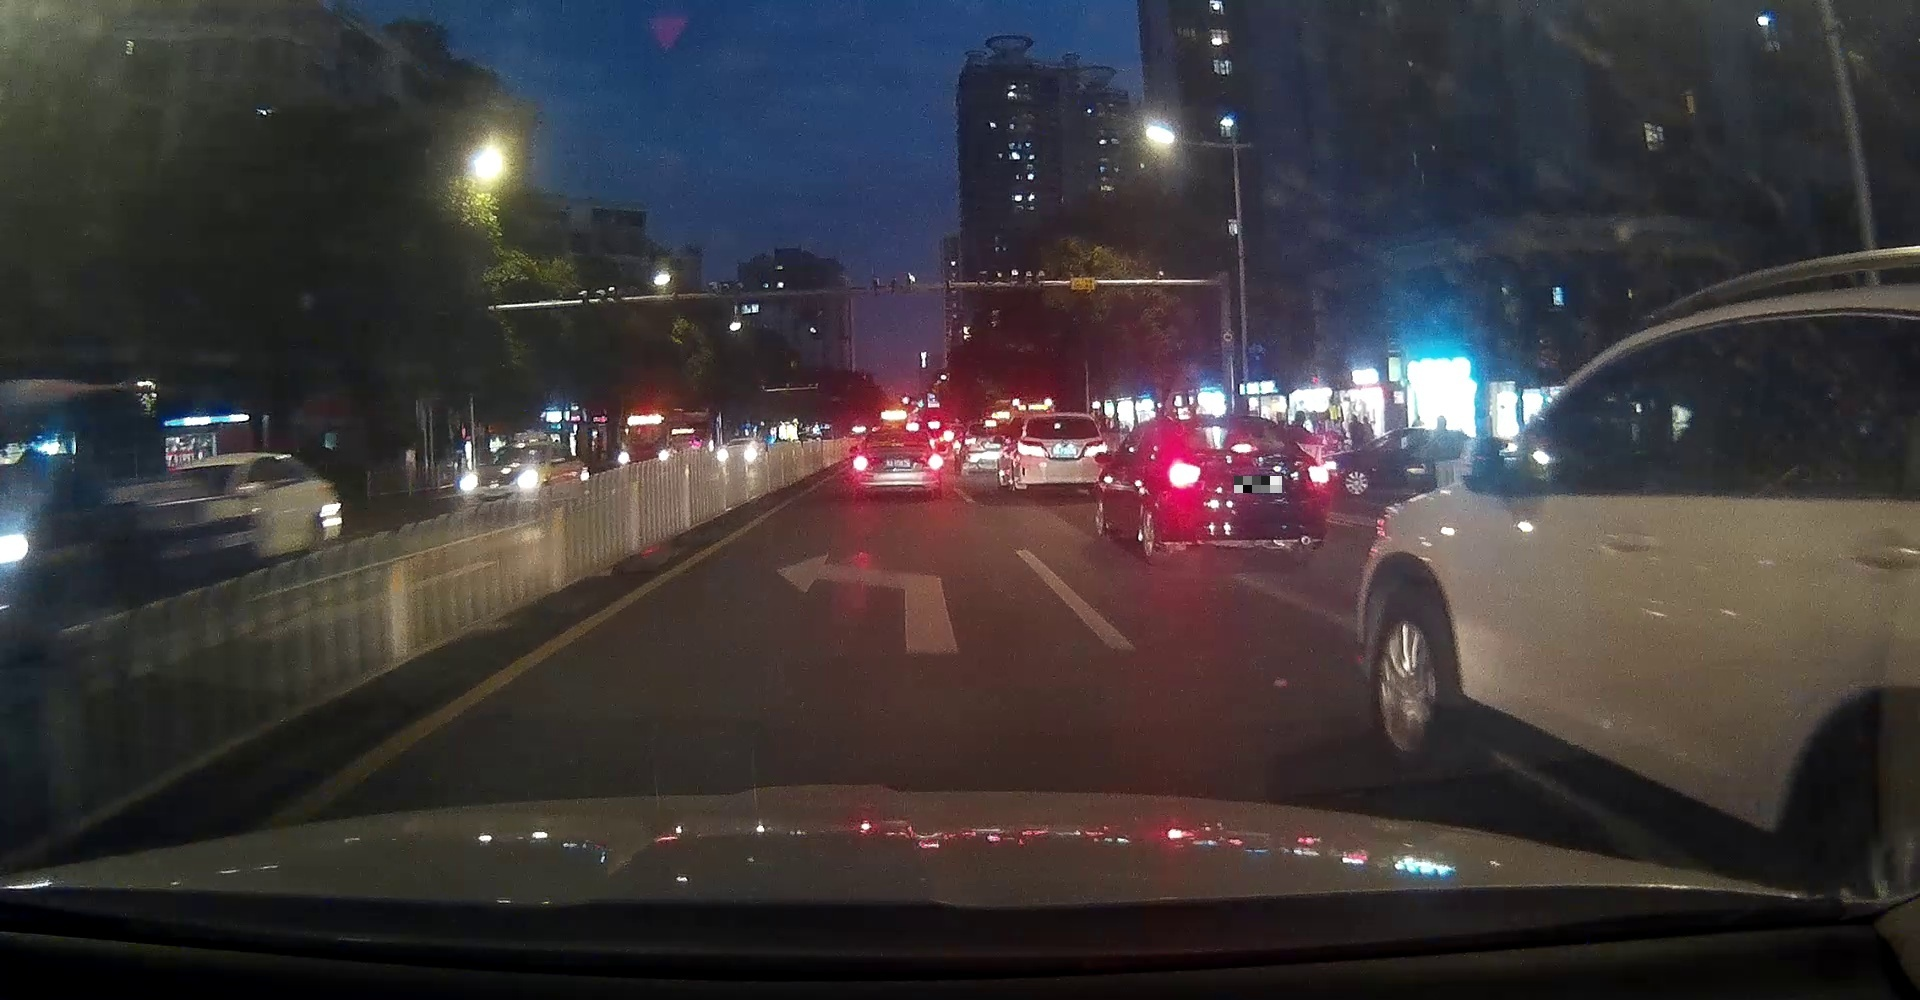L_light: (1168, 459, 1200, 489), (852, 456, 869, 471)
R_light: (1308, 464, 1330, 484), (928, 454, 943, 471)
T_light: (1230, 444, 1253, 453), (889, 443, 904, 447)
night-brake: (1159, 414, 1331, 566)
night-no: (852, 429, 943, 501)
plate_1: (1234, 476, 1283, 492)
